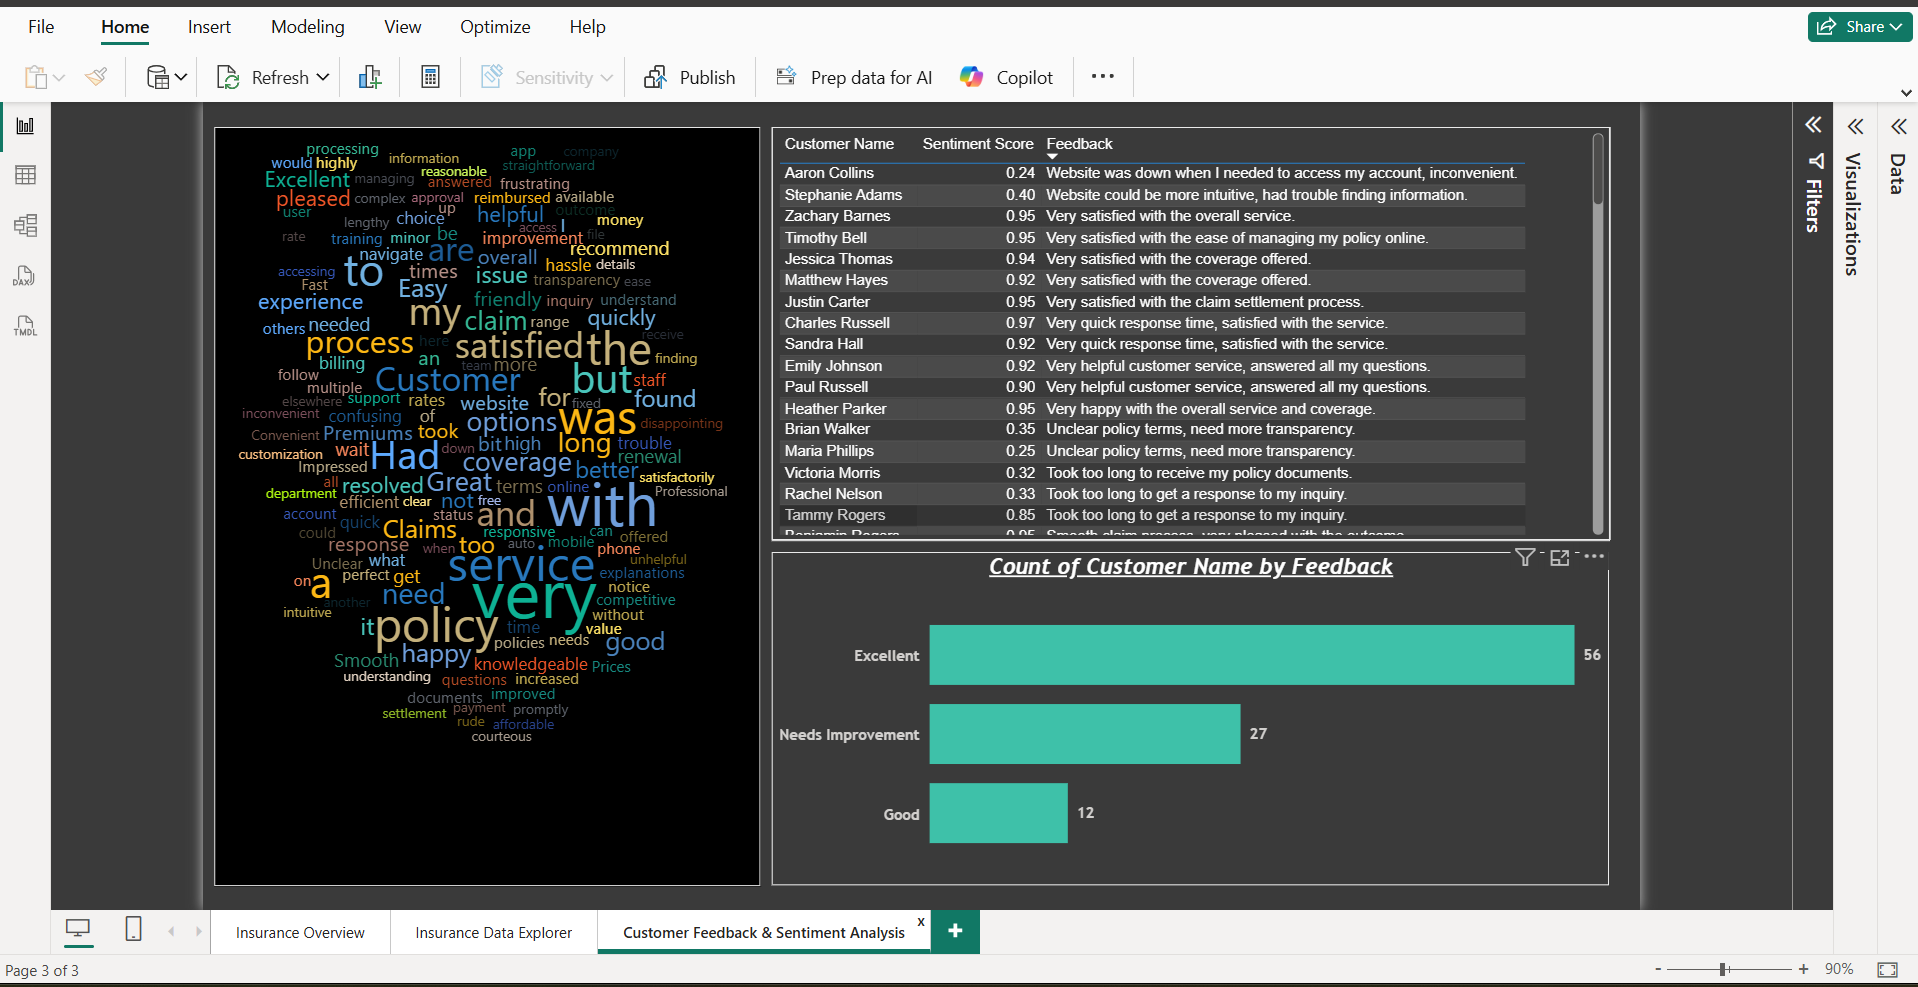

Layout of this report page (visuals, bound fields, positions):
{"tool":"powerbi","page":{"name":"Customer Feedback & Sentiment Analysis","canvas":[1280,720],"ordinal":2},"visuals":[{"type":"WordCloud1447959067750","fields":{"Category":["Sheet1.Feedback"],"Values":["CountNonNull(Sheet1.Feedback)"]},"box":[9.7,21.7,486.2,675.6],"z":0},{"type":"barChart","title":"Count of Customer Name by Feedback","fields":{"Y":["CountNonNull(Sheet1.Customer Name)"],"Category":["Sheet1.Good/Improvement"]},"box":[506.7,400.5,745.6,296.8],"z":1000},{"type":"tableEx","fields":{"Values":["Sheet1.Customer Name","Sheet1.Sentiment Score","Sheet1.Feedback"]},"box":[506.7,21.7,746.8,369.2],"z":2000}]}

Visuals, with their boxes on the page's 1280x720 design canvas (x1, y1, x2, y2). These are canvas units, not pixel positions in the 1918x987 screenshot, which may show the page scaled, cropped or inside an application window:
WordCloud1447959067750 - Sheet1.Feedback x CountNonNull(Sheet1.Feedback): <region>10, 22, 496, 697</region>
"Count of Customer Name by Feedback" barChart: <region>507, 400, 1252, 697</region>
tableEx - Sheet1.Customer Name x Sheet1.Sentiment Score: <region>507, 22, 1254, 391</region>
